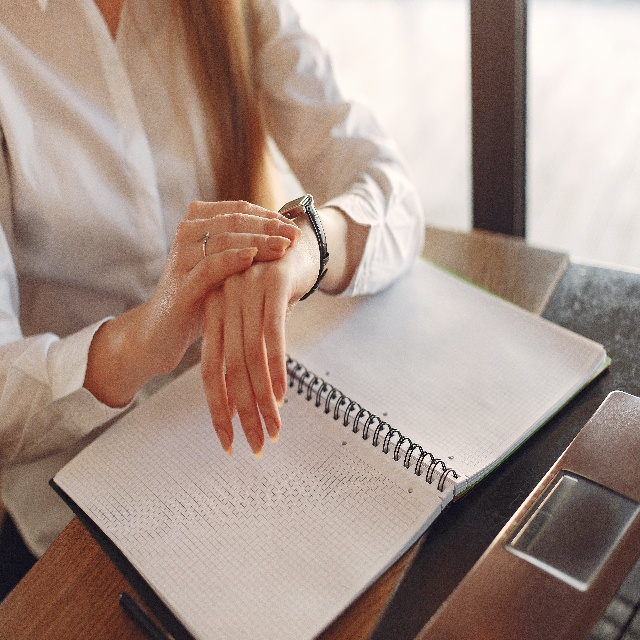Sin_guantes: (137, 200, 301, 385), (201, 220, 320, 461)
